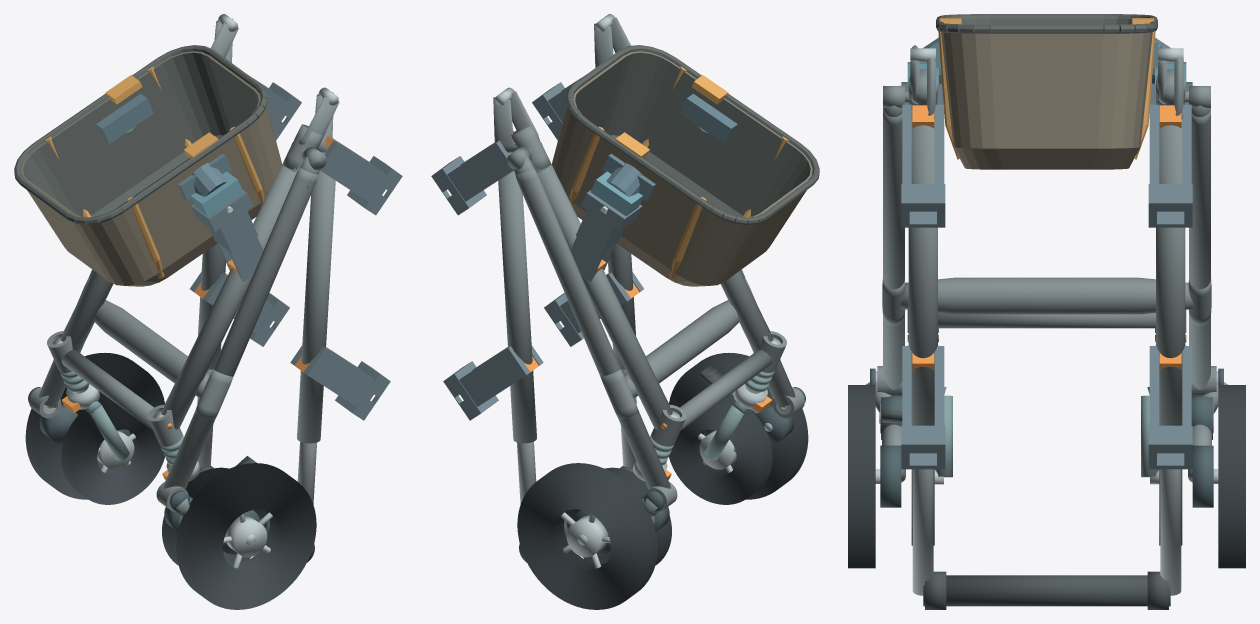
Rendered from S15_w380_state3_wheel_S.glb.
3 views of the same model, side by side, from view 1: azimuth 30°, elevation 25°; view 2: azimuth 150°, elevation 25°; view 3: azimuth 270°, elevation 25° (orthographic). The views are drawn at different scales.
Visible parts, largest first — view 1: S15_Cabin, RL_tire.013, V46_rear_leg_-1, FR_tire.013, main_upper_-1.001, main_lower_-1.001, RR_tire.013, S15_Cabin_Mount_L, Universal_Cabin_Receiver_H_-1, V46_rearbar, Universal_Cabin_Receiver_M_-1, Universal_Cabin_Receiver_L_-1 (+17 smaller); view 2: S15_Cabin, RR_tire.013, V46_rear_leg_1, FL_tire.013, main_upper_1.001, main_lower_1.001, S15_Cabin_Mount_L, RL_tire.013, Universal_Cabin_Receiver_H_1, V46_rearbar, Universal_Cabin_Receiver_M_1, Universal_Cabin_Receiver_L_1 (+19 smaller); view 3: S15_Cabin, V46_rearbar, main_upper_1.001, main_upper_-1.001, round_handle.012, RL_tire.013, RR_tire.013, V46_rear_leg_1, V46_rear_leg_-1, Universal_Cabin_Receiver_H_1, Universal_Cabin_Receiver_H_-1, Universal_Cabin_Receiver_M_1 (+16 smaller).
Part boxes in pixels (x1,y1,x2,y2): S15_Cabin: (14, 45, 282, 286); RL_tire.013: (176, 463, 316, 609); V46_rear_leg_-1: (163, 167, 318, 489); FR_tire.013: (61, 396, 164, 504); main_upper_-1.001: (297, 152, 335, 443); main_lower_-1.001: (161, 160, 303, 429); RR_tire.013: (25, 353, 164, 499); S15_Cabin_Mount_L: (96, 93, 243, 216); Universal_Cabin_Receiver_H_-1: (290, 345, 390, 420); V46_rearbar: (95, 300, 209, 397); Universal_Cabin_Receiver_M_-1: (320, 139, 402, 215); Universal_Cabin_Receiver_L_-1: (191, 190, 263, 281); S15_Cabin: (551, 45, 819, 286); RR_tire.013: (517, 463, 657, 609); V46_rear_leg_1: (515, 167, 670, 489); FL_tire.013: (669, 396, 772, 504); main_upper_1.001: (498, 152, 536, 443); main_lower_1.001: (530, 160, 672, 429); S15_Cabin_Mount_L: (590, 93, 737, 216); RL_tire.013: (669, 353, 808, 499); Universal_Cabin_Receiver_H_1: (443, 345, 543, 420); V46_rearbar: (624, 300, 738, 397); Universal_Cabin_Receiver_M_1: (431, 130, 513, 215); Universal_Cabin_Receiver_L_1: (570, 190, 642, 281); S15_Cabin: (936, 14, 1157, 169); V46_rearbar: (900, 277, 1193, 314); main_upper_1.001: (1156, 120, 1185, 425); main_upper_-1.001: (908, 120, 937, 425); round_handle.012: (923, 575, 1170, 606); RL_tire.013: (848, 385, 875, 568); RR_tire.013: (1218, 385, 1245, 568); V46_rear_leg_1: (1189, 109, 1210, 389); V46_rear_leg_-1: (883, 109, 904, 389); Universal_Cabin_Receiver_H_1: (1148, 346, 1192, 469); Universal_Cabin_Receiver_H_-1: (901, 346, 945, 469); Universal_Cabin_Receiver_M_1: (1148, 104, 1192, 227).
Size of the model in its own units: 0.4647 by 0.6926 by 0.434.
